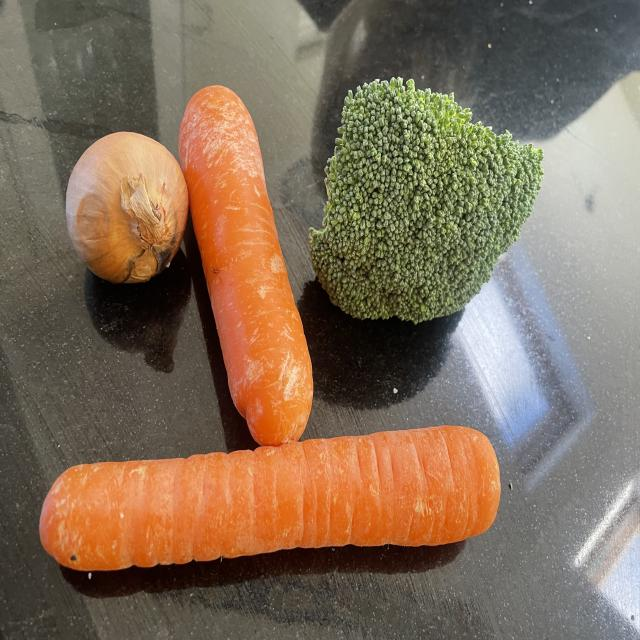Broccoli: (307, 74, 544, 327)
Carrot: (37, 422, 502, 575), (176, 82, 314, 445)
Onion: (65, 131, 190, 284)
